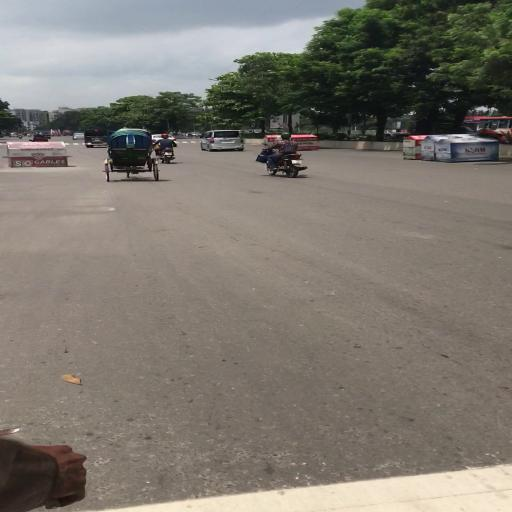bus: (50, 129, 62, 138)
car: (73, 133, 84, 141)
minivan: (201, 130, 246, 153)
motorbike: (259, 133, 309, 179), (154, 141, 177, 165)
rickshaw: (106, 131, 158, 184)
suv: (84, 130, 106, 148), (188, 132, 202, 139)
truck: (63, 130, 73, 137)
